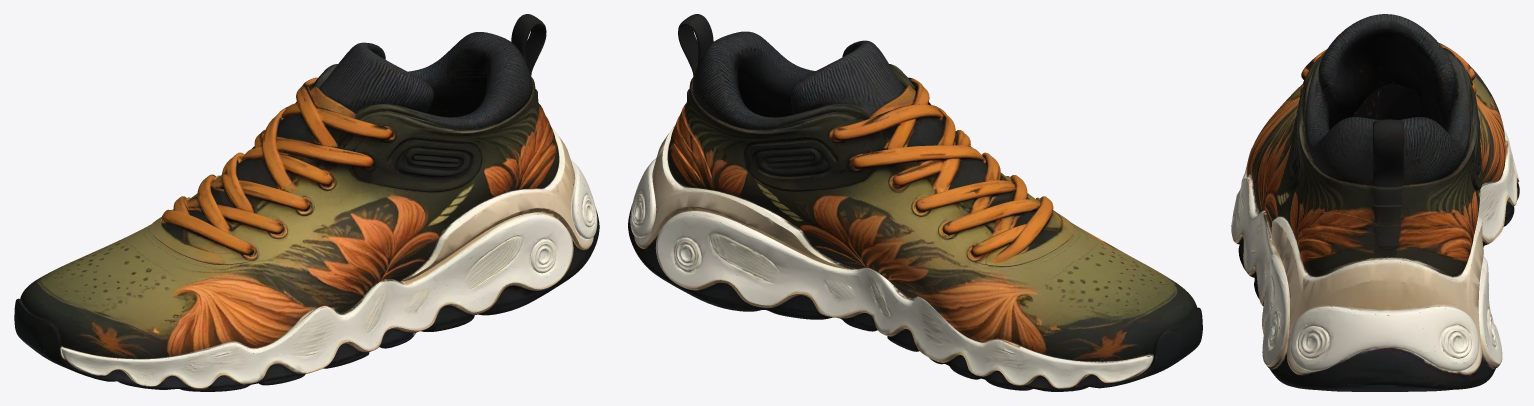
The model's file is shoe.glb.
3 renders of one model, left to right at view 1: azimuth 30°, elevation 25°; view 2: azimuth 150°, elevation 25°; view 3: azimuth 270°, elevation 25°, orthographic. The views are drawn at different scales.
Parts seen in each view (by area): view 1: node_0; view 2: node_0; view 3: node_0.
Part boxes in pixels (x1,y1,x2,y2): node_0: (14,14,599,391); node_0: (628,14,1202,391); node_0: (1231,14,1519,391).
Bounding box in the file's own units: 1.15 × 0.4996 × 0.4421.
1 material, 1 textured.
